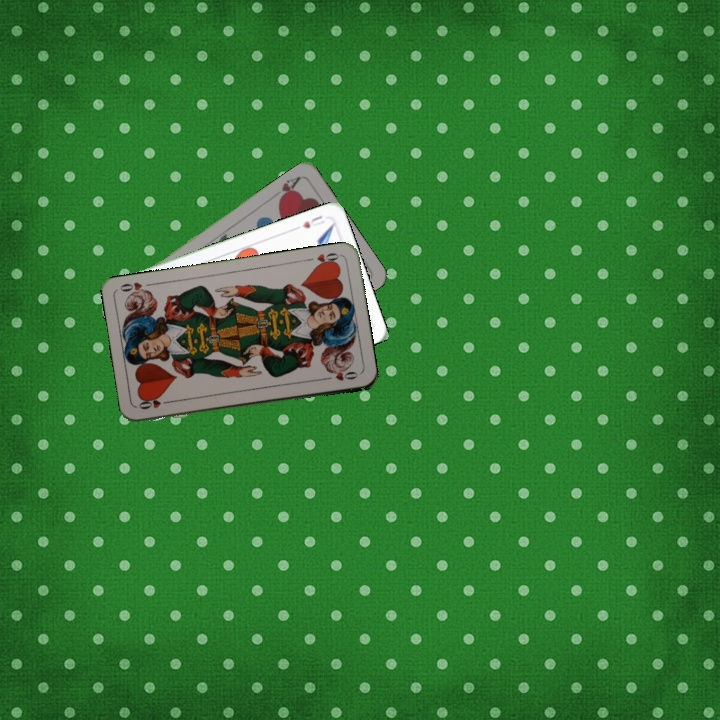HA: (268, 172, 303, 204)
HO: (302, 249, 343, 270), (134, 396, 174, 412)
HU: (298, 211, 327, 231)
